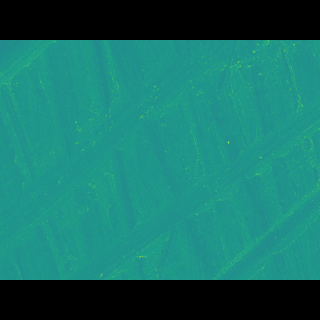Loch: (0, 70, 226, 235), (63, 108, 320, 250), (209, 174, 320, 250)
